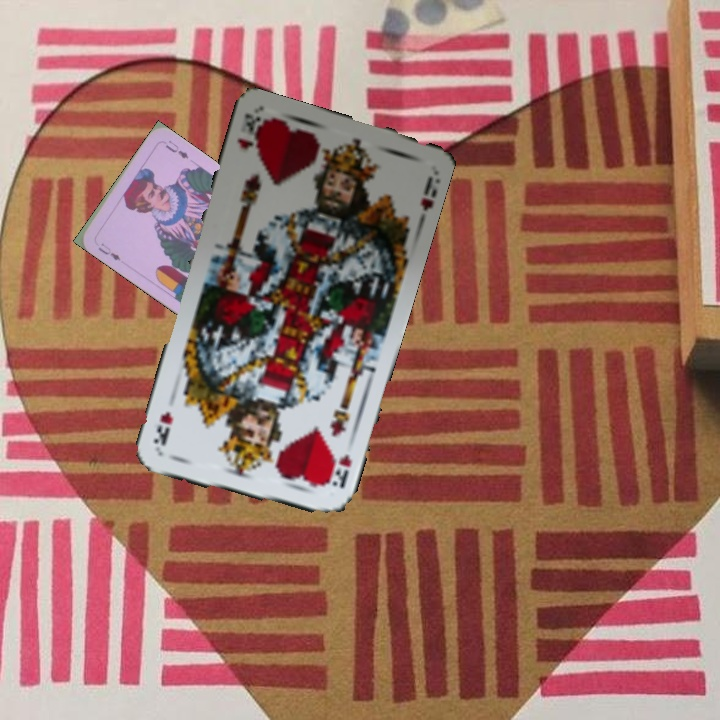EU: (94, 239, 123, 264)
HK: (233, 111, 266, 153), (328, 450, 354, 492)
